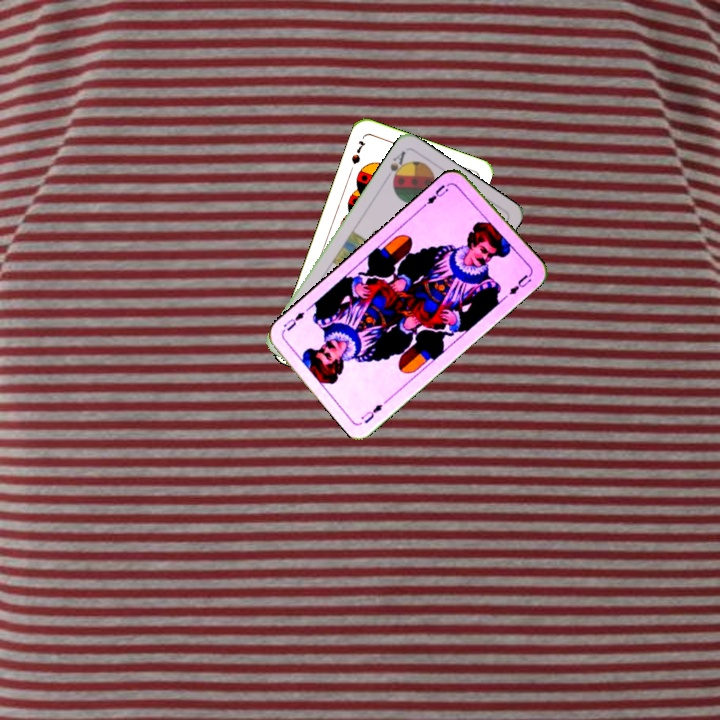EU: (419, 180, 451, 210), (357, 400, 385, 426)
S7: (347, 136, 368, 167)
SA: (386, 147, 409, 186)
